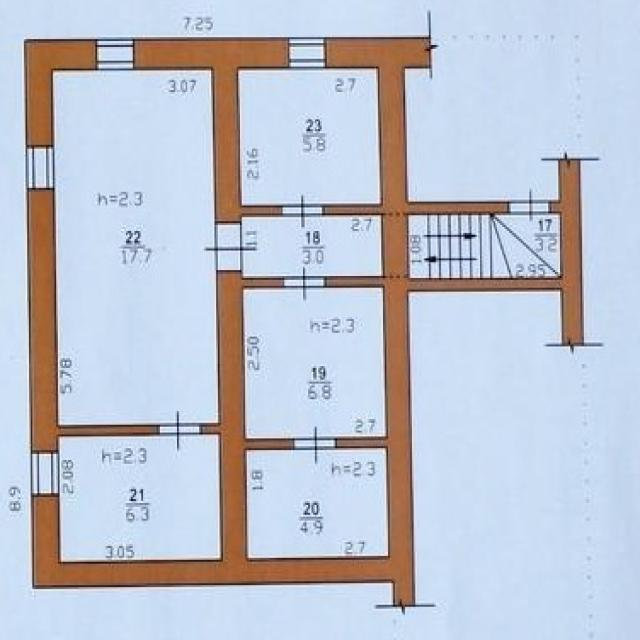Corridors: (245, 288, 386, 437), (243, 218, 381, 276)
Doors: (202, 223, 259, 272), (160, 409, 201, 454), (294, 425, 336, 467), (282, 190, 323, 230), (284, 264, 325, 301), (510, 185, 549, 223)
LBwalls: (326, 36, 431, 557), (136, 37, 287, 222), (217, 272, 248, 558), (26, 189, 58, 451), (24, 39, 94, 145), (29, 497, 60, 563)
Offices: (53, 70, 216, 423), (60, 436, 221, 560), (240, 70, 378, 204), (248, 451, 386, 556)
Stairs: (409, 215, 562, 278)
Walls: (409, 158, 583, 347), (32, 555, 393, 590), (409, 201, 509, 214), (394, 558, 415, 608), (58, 425, 159, 435), (323, 204, 378, 216), (337, 438, 388, 448), (326, 277, 381, 286), (242, 205, 283, 217), (247, 439, 294, 449), (245, 277, 285, 287), (201, 424, 218, 434)
Windows: (29, 452, 60, 496), (25, 146, 56, 189), (289, 37, 326, 69), (97, 38, 135, 69)
